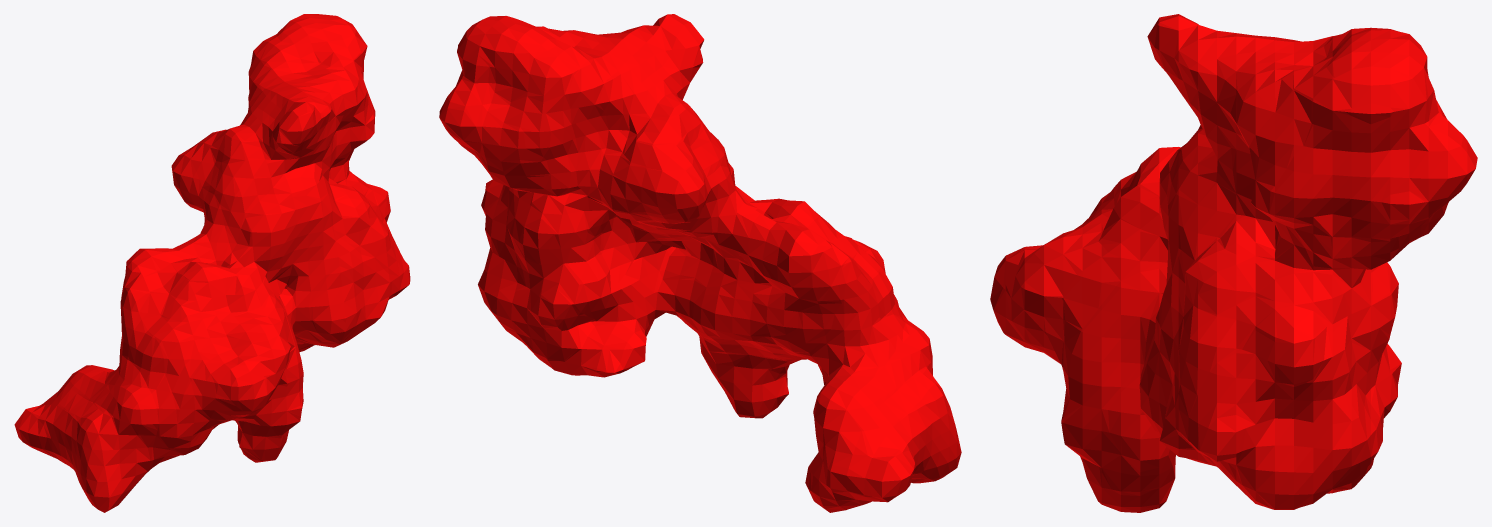
Rendered from clpA_coarse.dae.
The picture shows the model from 3 angles, left to right: view 1: azimuth 30°, elevation 25°; view 2: azimuth 150°, elevation 25°; view 3: azimuth 270°, elevation 25°; orthographic projection. The views are drawn at different scales.
Parts seen in each view (by area): view 1: clpA; view 2: clpA; view 3: clpA.
Boxes of the visible parts, <box> form: clpA: <box>14,14,410,512</box>; clpA: <box>439,14,961,512</box>; clpA: <box>990,14,1477,512</box>.
Size of the model in its own units: 106 by 102 by 75.48.
